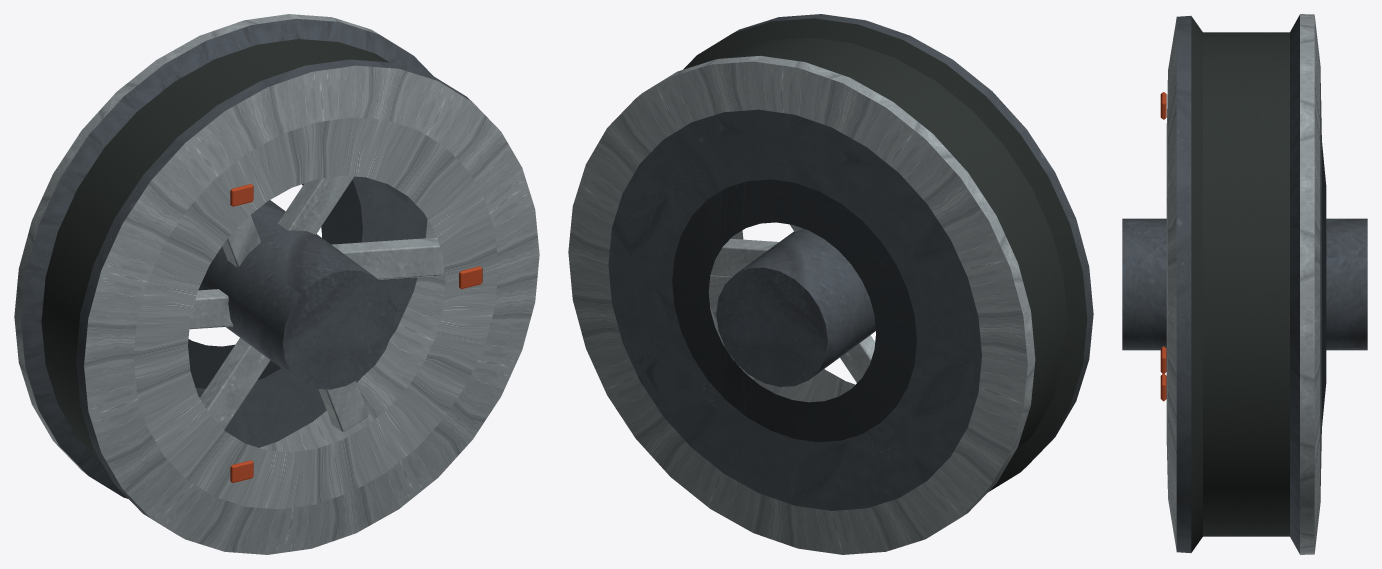
File: roller_front_upper_drive.fbx
3 views of the same model, side by side, from view 1: azimuth 30°, elevation 25°; view 2: azimuth 150°, elevation 25°; view 3: azimuth 270°, elevation 25° (orthographic).
Parts seen in each view (by area): view 1: SM_roller_front_upper_drive; view 2: SM_roller_front_upper_drive; view 3: SM_roller_front_upper_drive.
Boxes of the visible parts, box(x1,y1,x2,y2) form: SM_roller_front_upper_drive: box(14, 14, 539, 554); SM_roller_front_upper_drive: box(568, 14, 1093, 554); SM_roller_front_upper_drive: box(1122, 14, 1367, 554).
Size of the model in its own units: 0.4588 by 0.4588 by 0.208.
6 materials, 6 textured.
